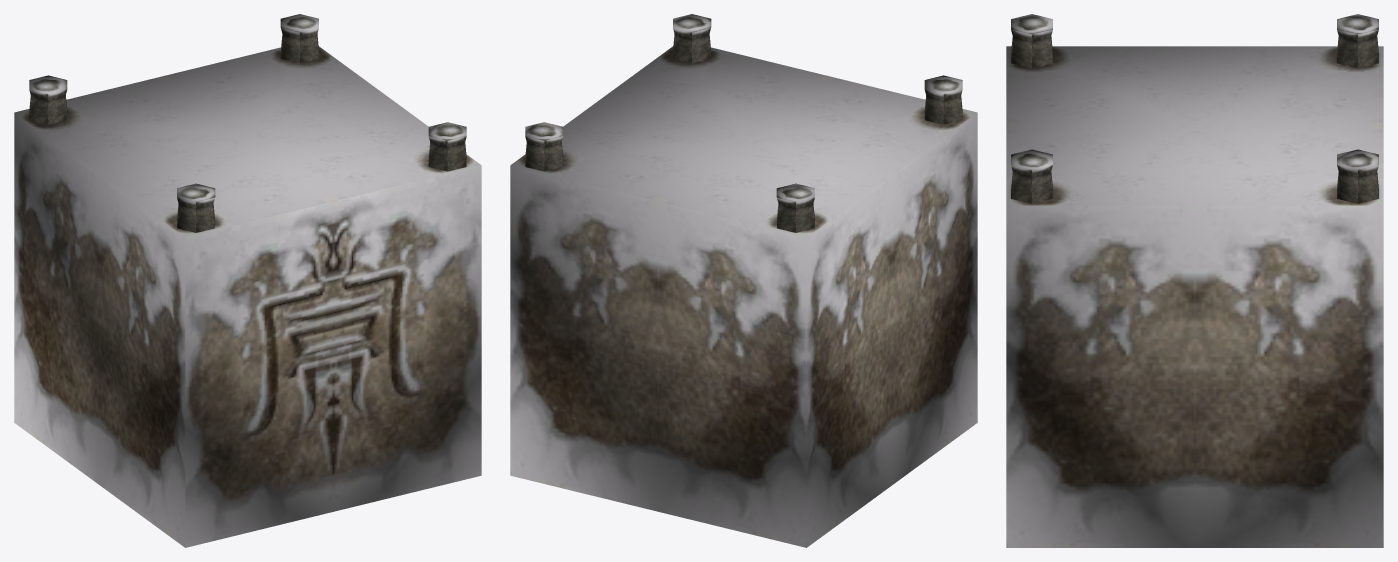
File: landmark_grandstone01.glb
3 views of the same model, side by side, from view 1: azimuth 30°, elevation 25°; view 2: azimuth 150°, elevation 25°; view 3: azimuth 270°, elevation 25° (orthographic). The views are drawn at different scales.
Visible parts, largest first — view 1: Object01; view 2: Object01; view 3: Object01.
Boxes of the visible parts, x1,y1,x2,y2 form: Object01: (14,14,481,547); Object01: (510,14,977,547); Object01: (1006,14,1383,547).
Bounding box in the file's own units: 4.64 × 5.1 × 4.64.
1 material, 1 textured.
